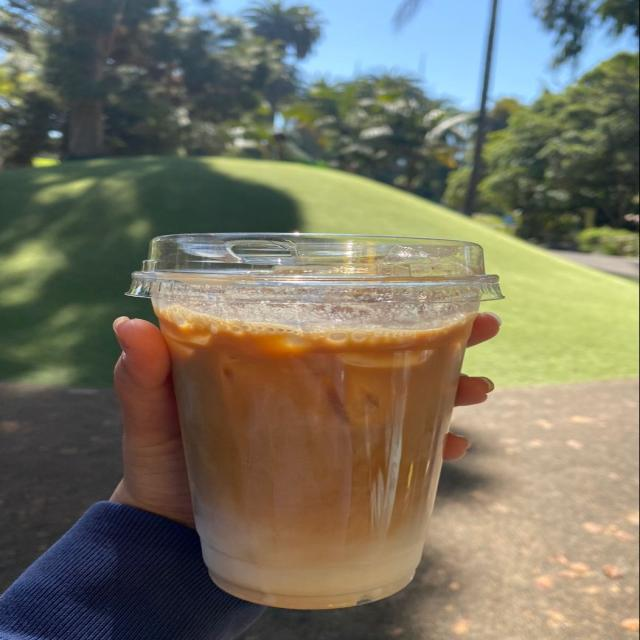plastic cup: (125, 235, 504, 609)
